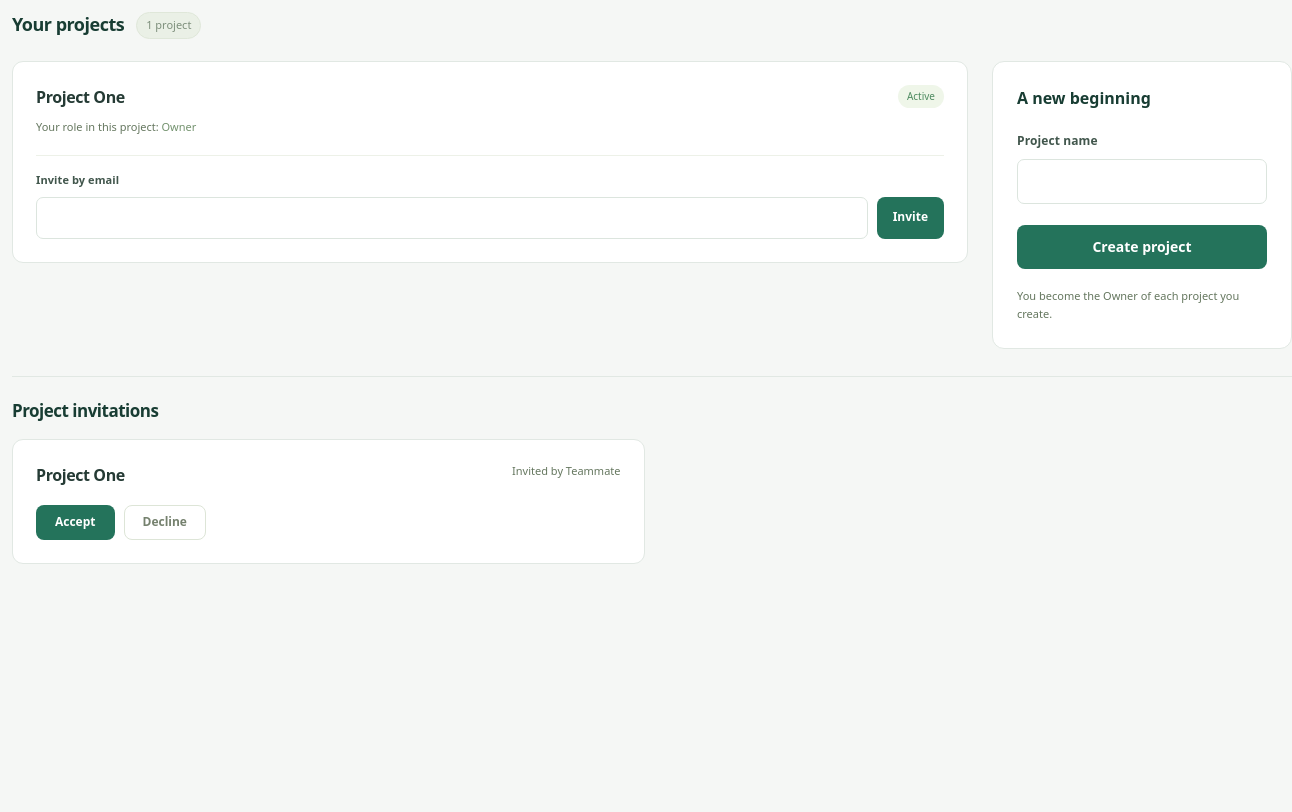
Test: ProjectPanel invitation responses › declines an invitation and updates the inbox message
Click the button "Decline" at point(165, 523), box [124,505,206,540]
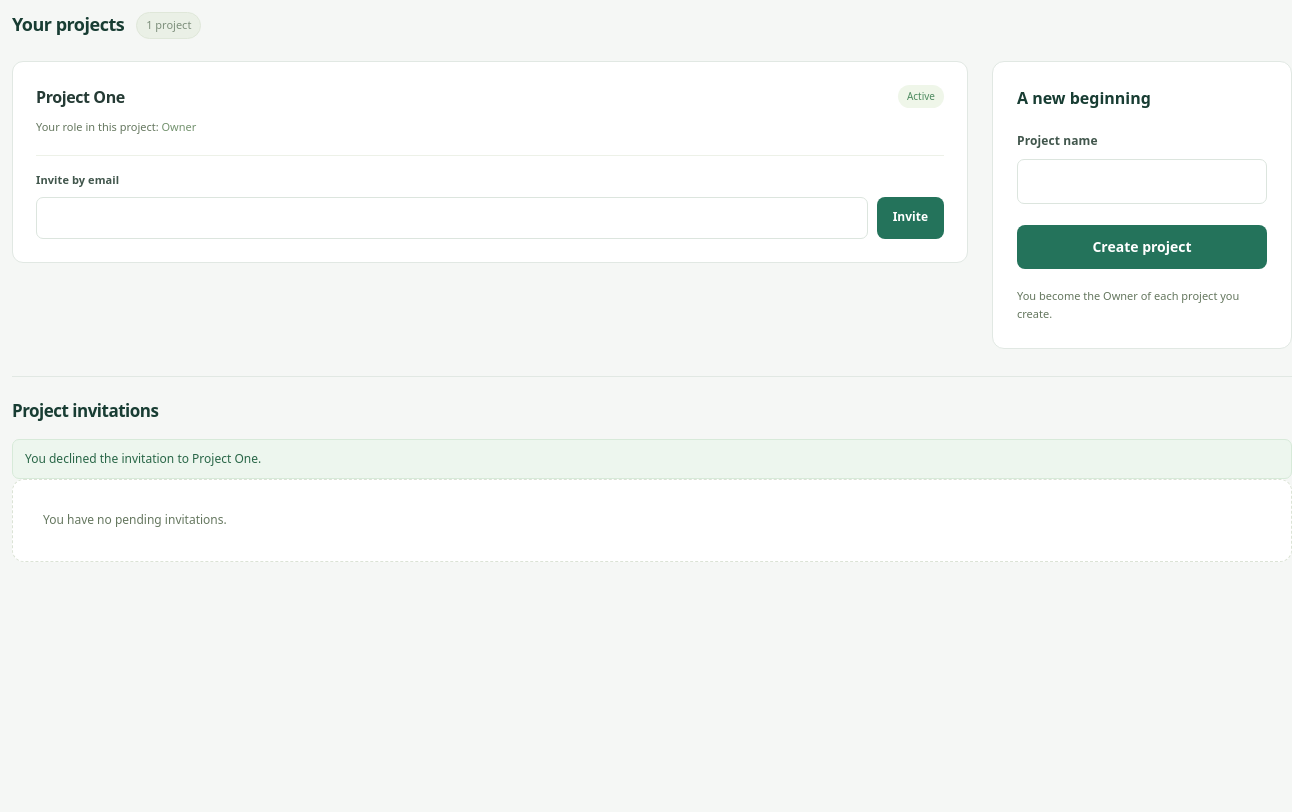
Check: the text "You declined the invitation to Project One." is shown, box [12,439,1291,479]
Check: the text "You have no pending invitations." is shown, box [12,479,1291,562]
